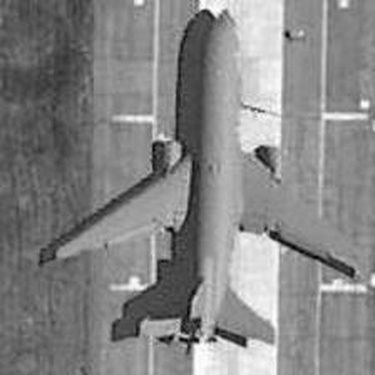airplane: (28, 6, 365, 363)
